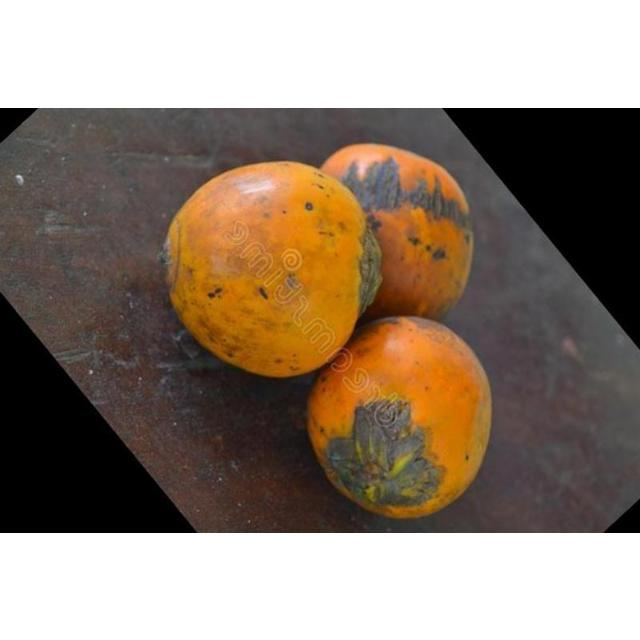good: (166, 161, 383, 378), (306, 315, 493, 521), (319, 144, 475, 322)
